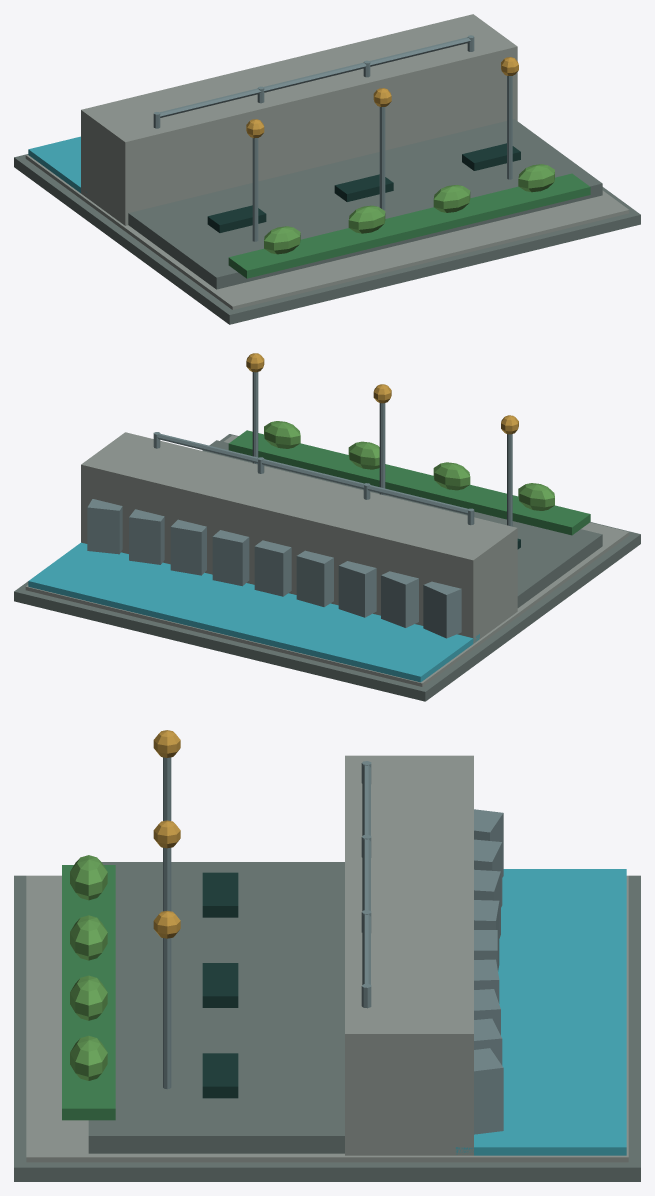
Rendered from seawall_lv4.glb.
3 renders of one model, top to bottom at view 1: azimuth 30°, elevation 25°; view 2: azimuth 150°, elevation 25°; view 3: azimuth 270°, elevation 25°, orthographic. The views are drawn at different scales.
Parts seen in each view (by area): view 1: rough, metallic, glossy; view 2: rough, glossy, metallic; view 3: rough, glossy, metallic.
Part boxes in pixels (x1,y1,x2,y2): rough: [14, 14, 640, 324]; metallic: [153, 35, 512, 241]; glossy: [28, 136, 86, 193]; rough: [14, 353, 640, 701]; glossy: [28, 542, 479, 682]; metallic: [87, 372, 512, 638]; rough: [14, 730, 640, 1181]; glossy: [455, 869, 626, 1155]; metallic: [163, 757, 503, 1134].
Bounding box in the file's own units: 9.7 × 3.32 × 8.8.
